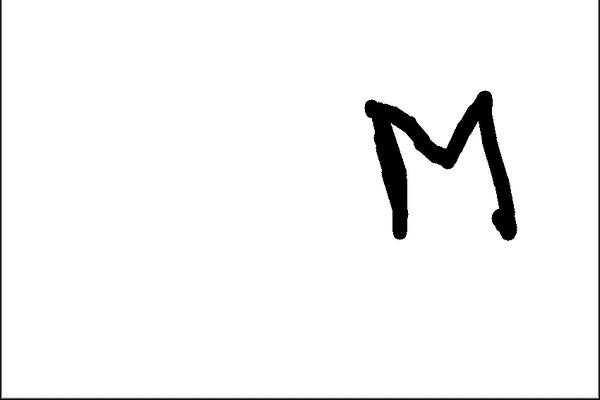M: (360, 91, 522, 242)
